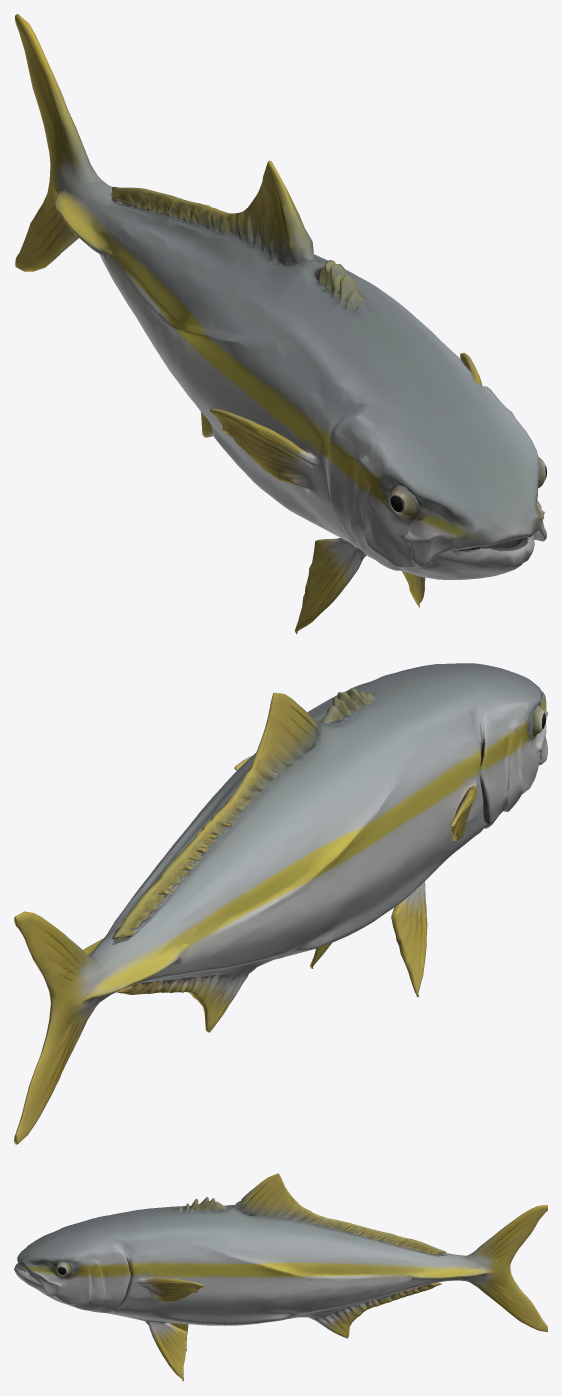
The model's file is kingfish.glb.
3 renders of one model, top to bottom at view 1: azimuth 30°, elevation 25°; view 2: azimuth 150°, elevation 25°; view 3: azimuth 270°, elevation 25°, orthographic. The views are drawn at different scales.
Visible parts, largest first — view 1: tripo_node_7e4c4135-b192-4829-b6be-67bc18bd322b; view 2: tripo_node_7e4c4135-b192-4829-b6be-67bc18bd322b; view 3: tripo_node_7e4c4135-b192-4829-b6be-67bc18bd322b.
Part boxes in pixels (x1,y1,x2,y2): tripo_node_7e4c4135-b192-4829-b6be-67bc18bd322b: (15,14,546,634); tripo_node_7e4c4135-b192-4829-b6be-67bc18bd322b: (14,663,547,1144); tripo_node_7e4c4135-b192-4829-b6be-67bc18bd322b: (14,1173,547,1381).
Bounding box in the file's own units: 0.2702 × 0.4029 × 0.9995.
1 material, 1 textured.
